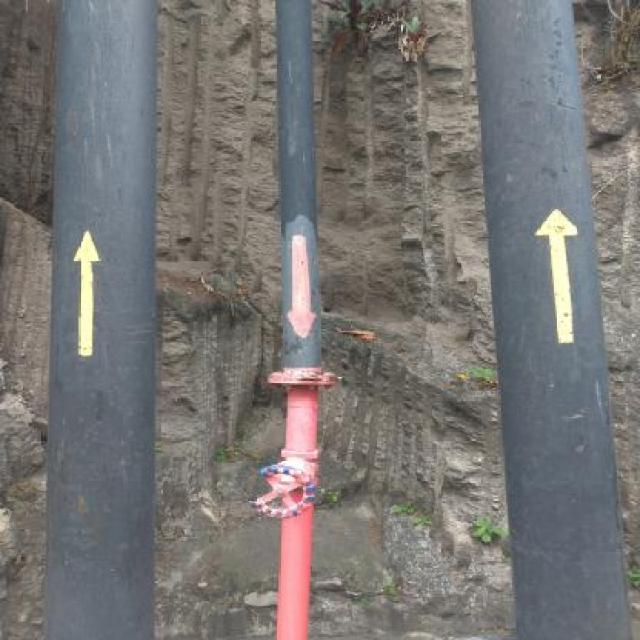gas: (471, 1, 631, 638), (44, 2, 157, 640), (276, 0, 311, 640)
